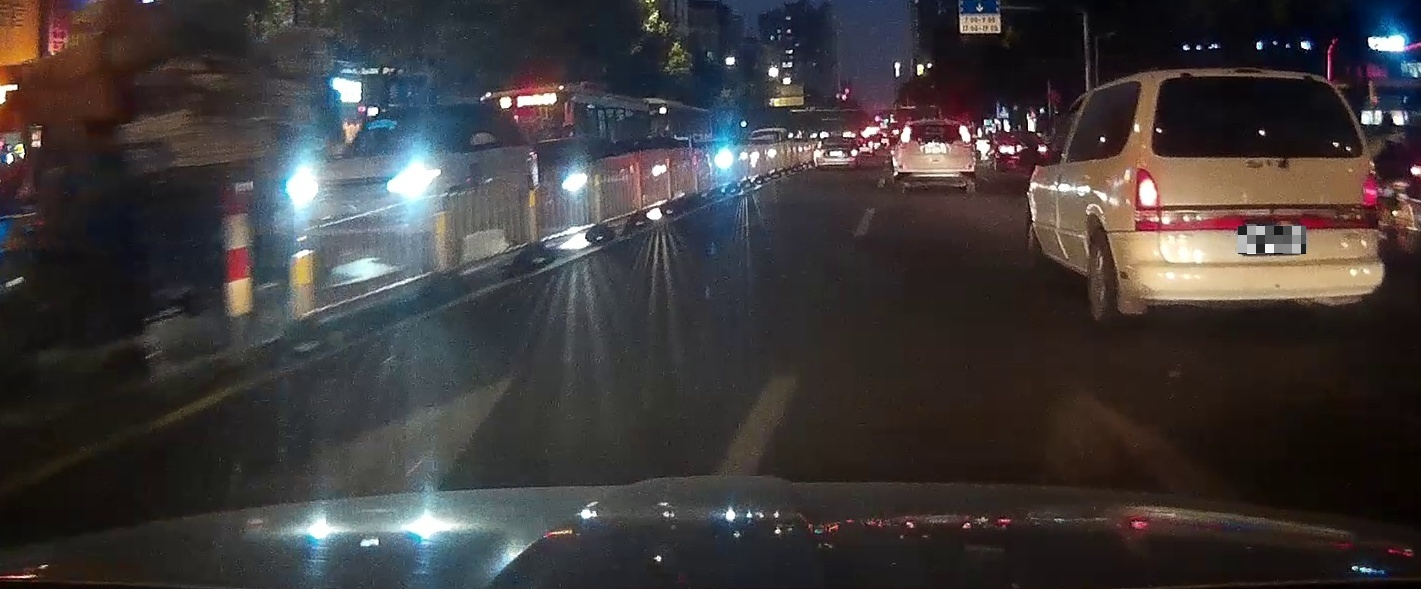L_light: (1133, 168, 1162, 231), (898, 126, 911, 149)
R_light: (1361, 174, 1384, 229), (959, 126, 972, 148)
T_light: (1234, 69, 1264, 76), (929, 121, 945, 125)
night-left: (1132, 68, 1384, 314)
night-no: (898, 119, 977, 192)
plate_1: (1238, 226, 1306, 254)
